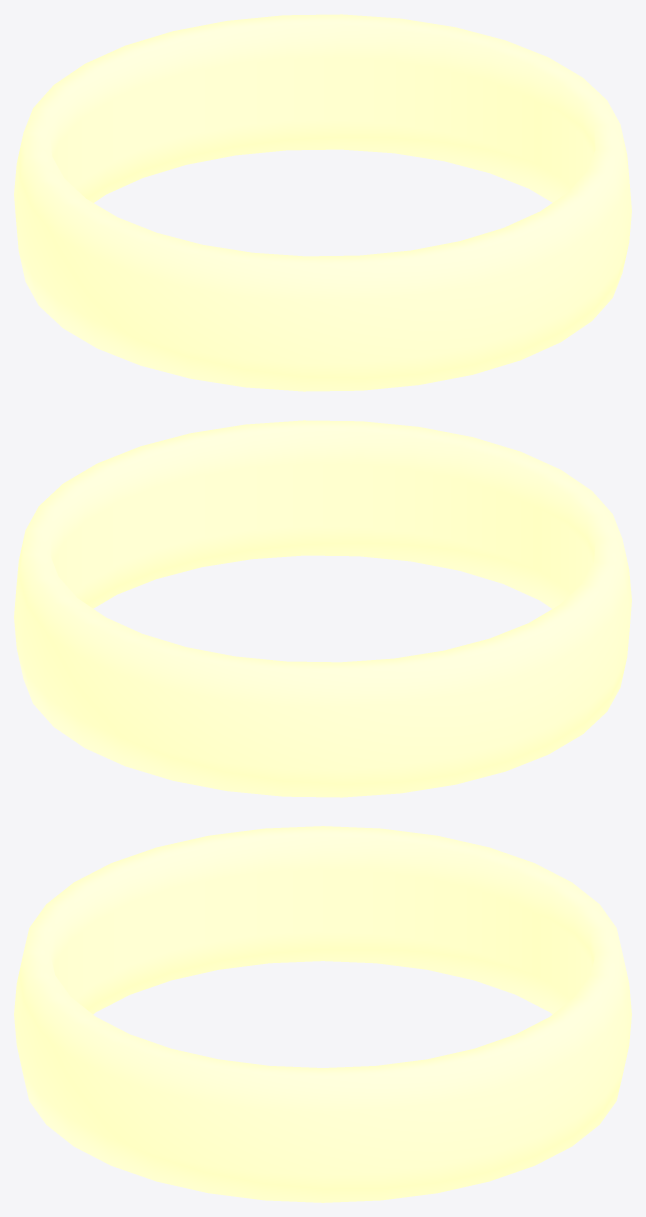
File: ring.glb
3 views of the same model, one above another, from view 1: azimuth 30°, elevation 25°; view 2: azimuth 150°, elevation 25°; view 3: azimuth 270°, elevation 25° (orthographic).
Visible parts, largest first — view 1: Ring; view 2: Ring; view 3: Ring.
Boxes of the visible parts, <box> form: Ring: <box>14,14,631,391</box>; Ring: <box>14,420,631,797</box>; Ring: <box>14,826,631,1202</box>.
Size of the model in its own units: 0.1812 by 0.04 by 0.1812.
